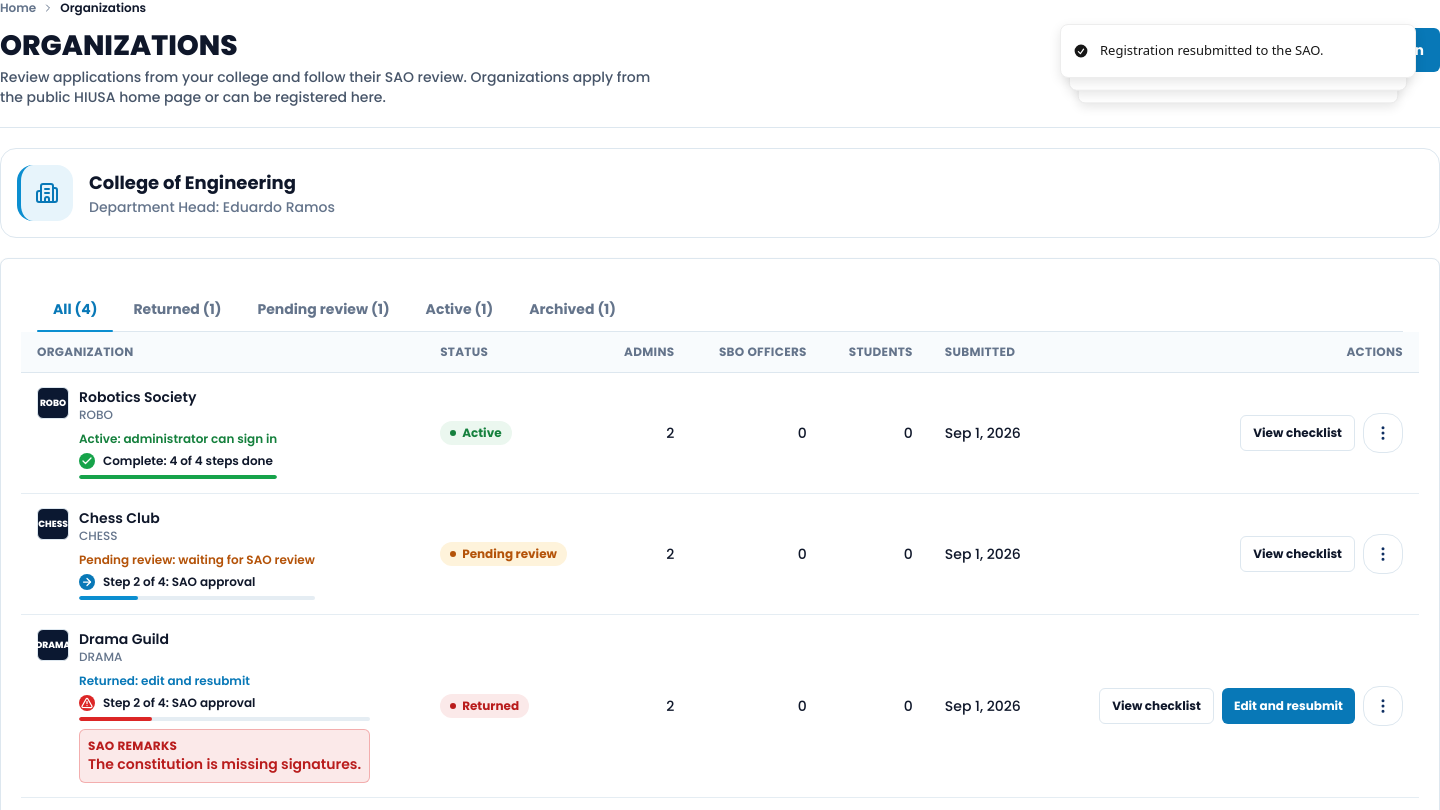
Test: CollegeOrganizationsPage › stays on the All tab after a resubmission because the row is still listed there
What coordinates should you click on to do the following:
click the button named "Actions for Drama Guild"
I would click on:
 (1383, 706)
Its box is [1363, 686, 1403, 726].
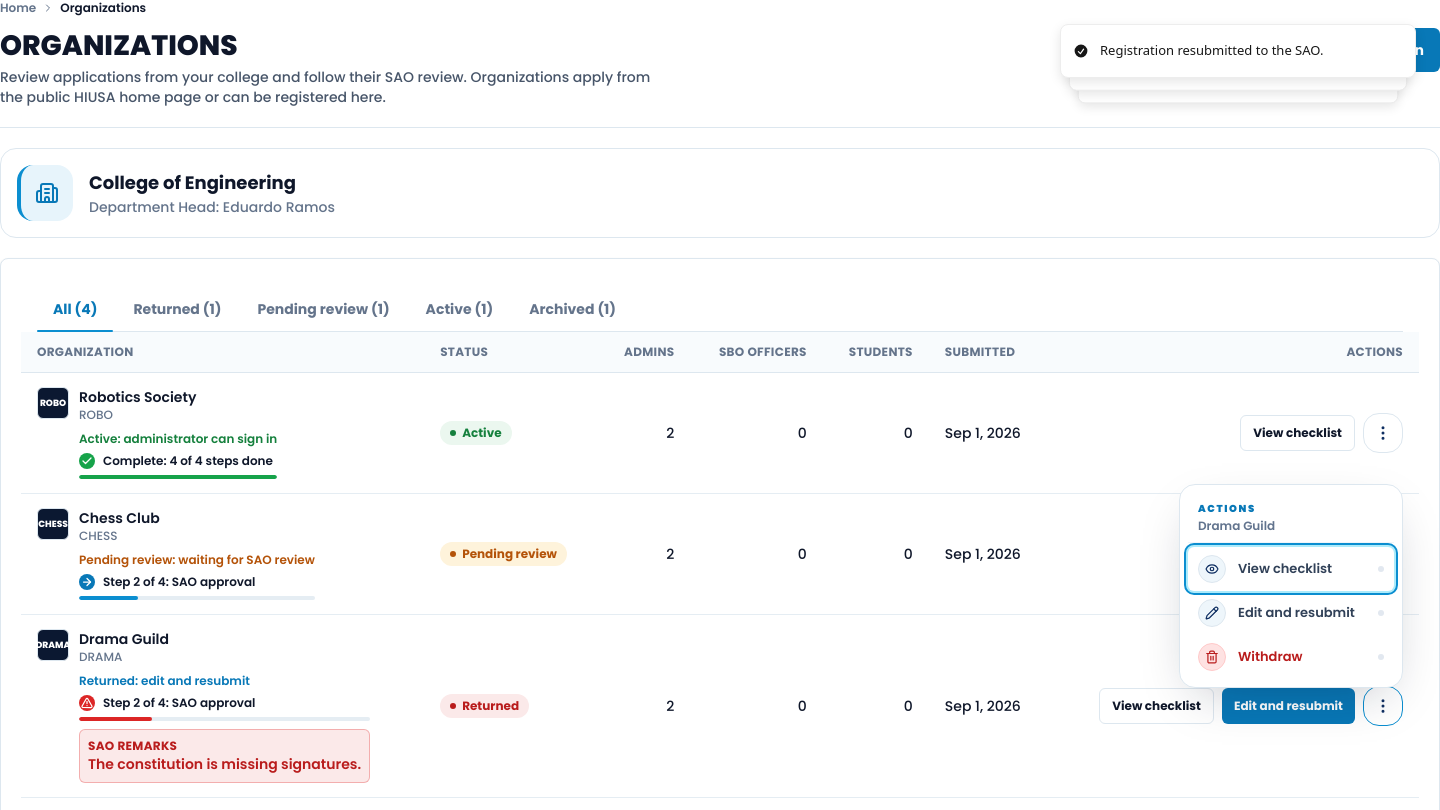
What coordinates should you click on to do the following:
click the menu item "Edit and resubmit"
I would click on:
 (1291, 613)
Its box is [1188, 591, 1394, 635].
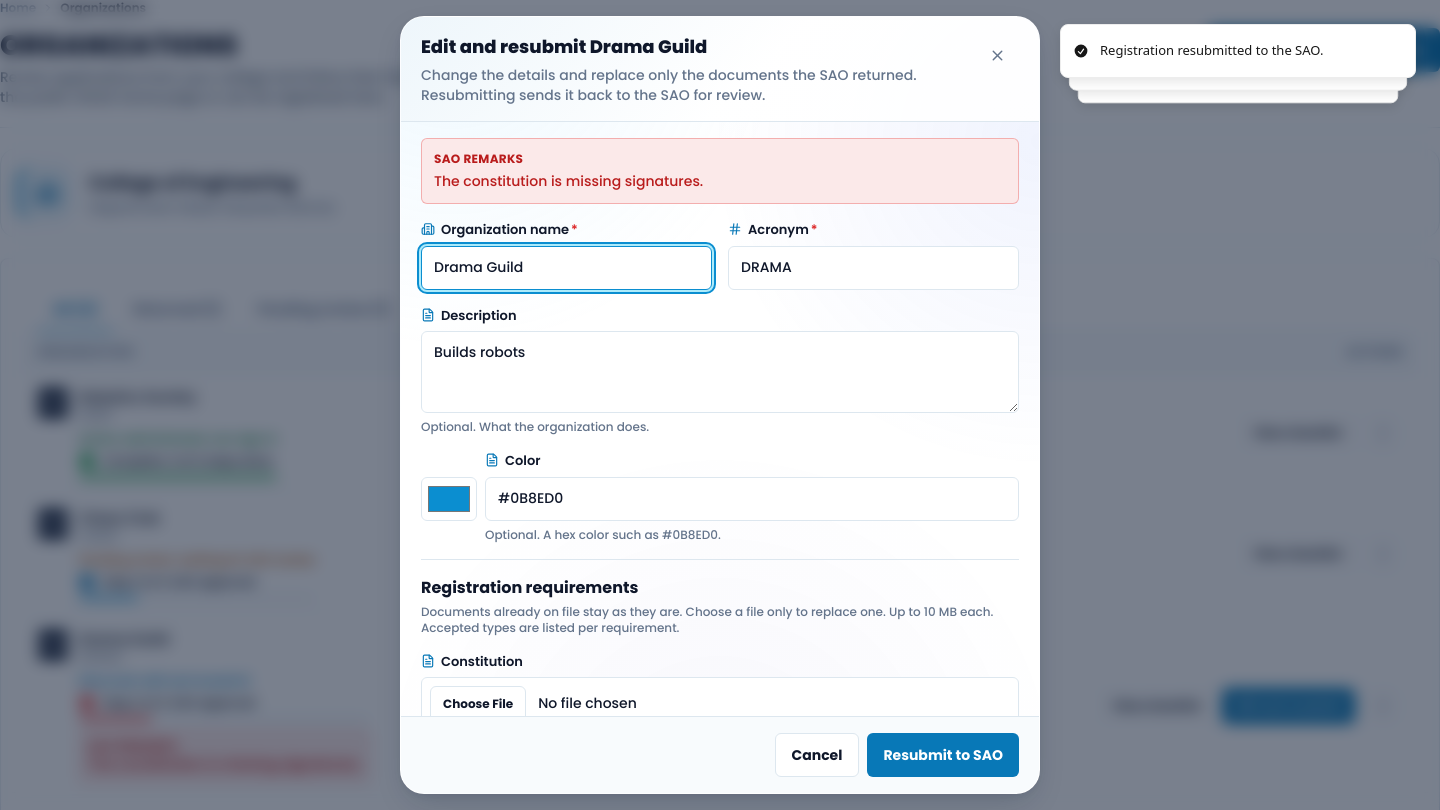
What coordinates should you click on to do the following:
click the button "Resubmit to SAO"
I would click on:
 (943, 755)
Its box is [867, 733, 1019, 777].
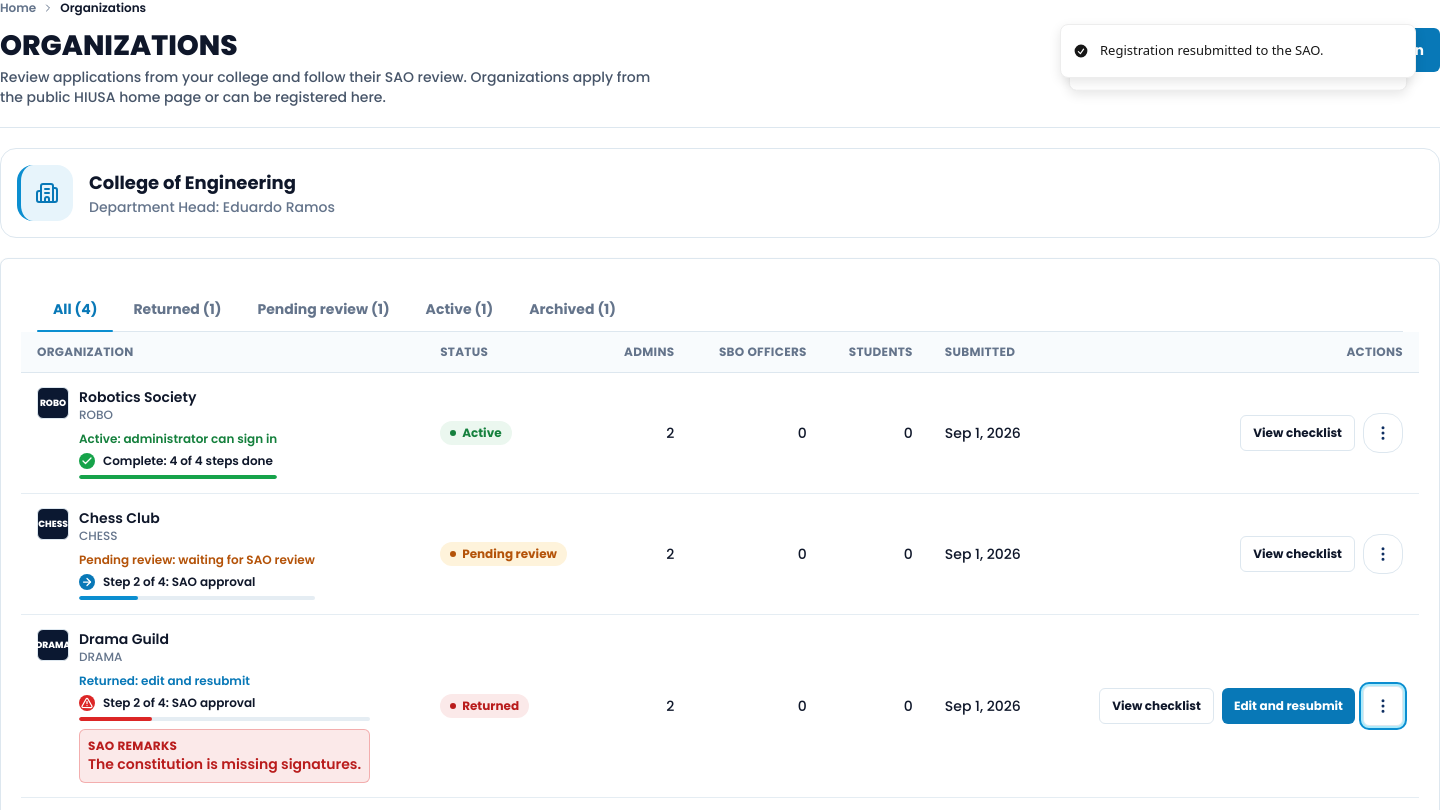
Now the dialog is gone
